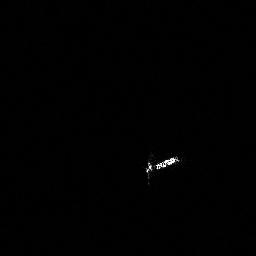ship: (141, 151, 184, 182)
